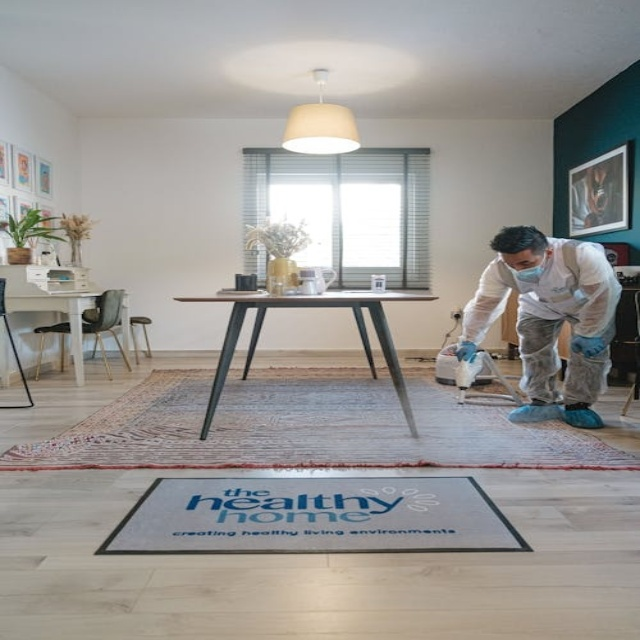Guantes: (572, 333, 607, 358), (454, 342, 478, 363)
Mascara: (509, 255, 545, 281)
Sin_gafas: (500, 250, 543, 270)
